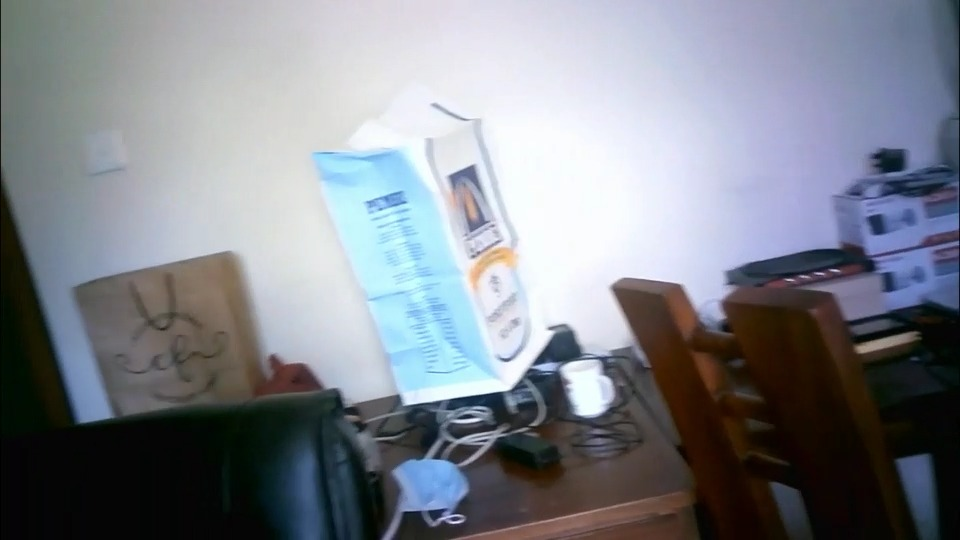wheat_flour_blue_label: (310, 85, 554, 403)
